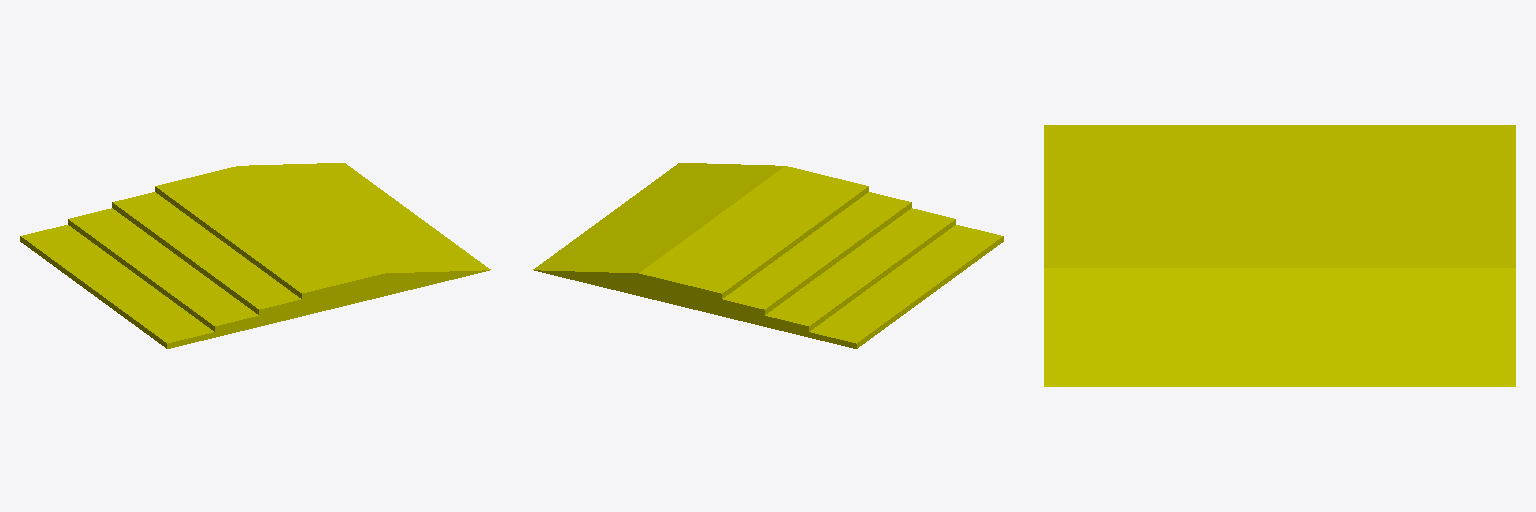
The robot description file, URDF, robot "stairs_wedge_down":
<?xml version="1.0" ?>
<robot name="stairs_wedge_down">


    <material name="mustard_yellow">
        <color rgba="0.8 0.8 0.0 1"/>
     </material>

  <link name="stairs_wedge_down__link_3">
    <inertial>
      <mass value="1000"/>
      <origin rpy="0     0     1.5708" xyz="0.5 0.5 0"/>
      <inertia ixx="0.166667" ixy="0" ixz="0" iyy="0.166667" iyz="0" izz="0.166667"/>
    </inertial>
    <collision name="stairs_wedge_down__collision">
      <origin rpy="0     0     1.5708" xyz="0 0 0"/>
      <geometry>
        <mesh filename="package://stairs_wedge_down/stairs_wedge.stl" scale="0.7 0.7 1"/>
      </geometry>
    </collision>
    <visual name="stairs_wedge_down__visual">
      <origin rpy="0     0     1.5708" xyz="0 0 0"/>
      <geometry>
        <mesh filename="package://stairs_wedge_down/stairs_wedge.stl" scale="0.7 0.7 1"/>
      </geometry>
      <material name="mustard_yellow"/>
    </visual>
  </link>
</robot>

--- Render facts (derived) ---
3 views of the same robot in one strip: view 1: azimuth 30°, elevation 25°; view 2: azimuth 150°, elevation 25°; view 3: azimuth 270°, elevation 25° (orthographic).
Robot: stairs_wedge_down — 1 links, 0 joints (none); root link stairs_wedge_down__link_3; default pose: every joint at zero.
Visible links, largest first — view 1: stairs_wedge_down__link_3; view 2: stairs_wedge_down__link_3; view 3: stairs_wedge_down__link_3.
Link boxes in pixels (<box>): stairs_wedge_down__link_3: <box>20,163,490,348</box>; stairs_wedge_down__link_3: <box>533,163,1003,348</box>; stairs_wedge_down__link_3: <box>1044,125,1515,386</box>.
Size in the robot's own frame: 1.78 by 1.4 by 0.1197 metres.
1 mesh visuals loaded from 1 distinct referenced files (1 binary STL).